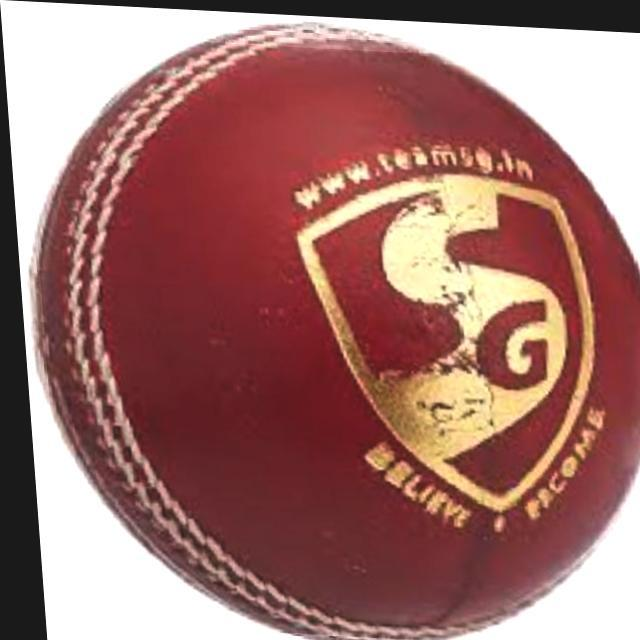-: (22, 33, 640, 640)
